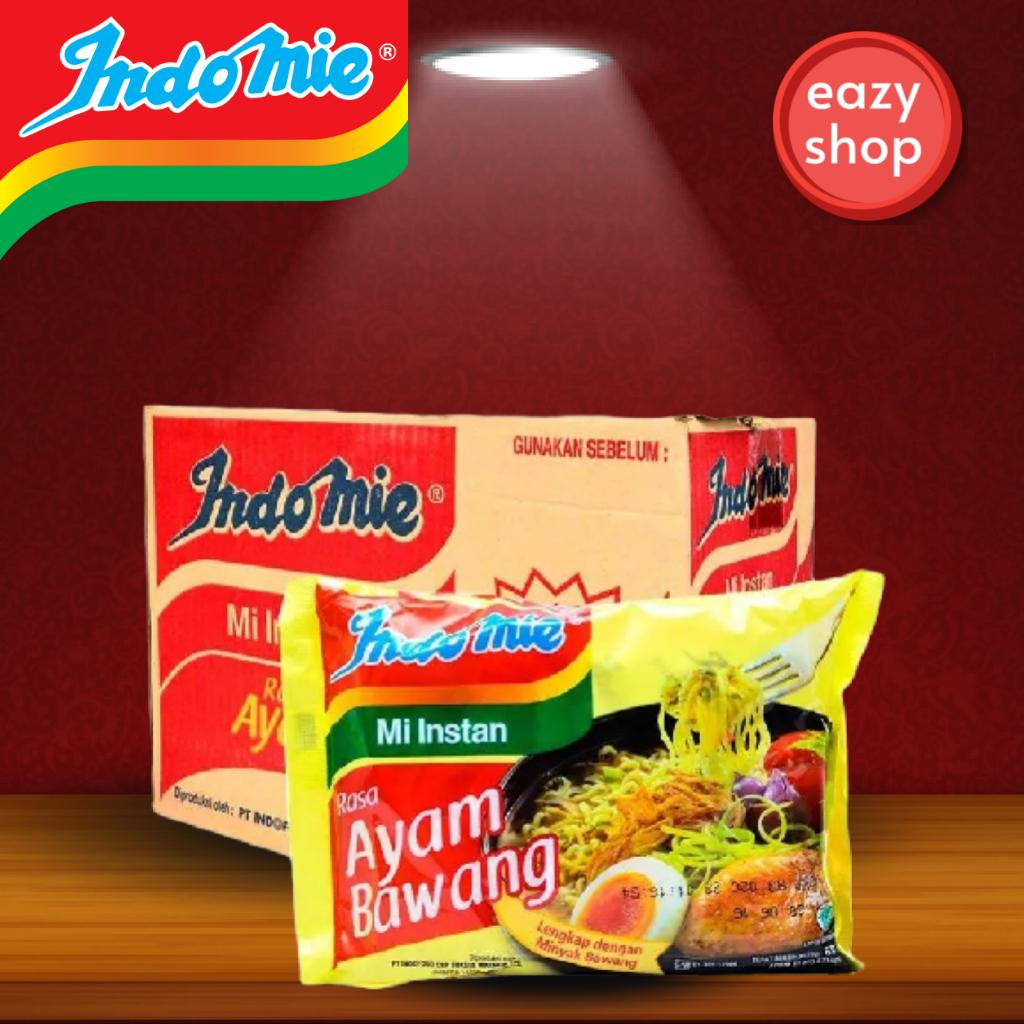Indomie Ayam Bawang (69g): (255, 562, 877, 973)
